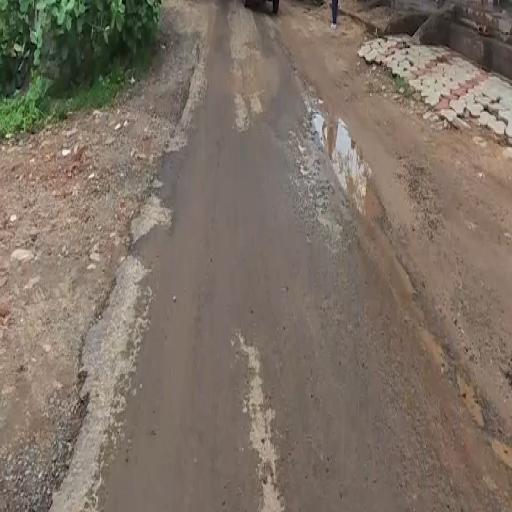edge_damage: (32, 301, 130, 501), (119, 111, 191, 262)
ravelling: (278, 93, 345, 265)
